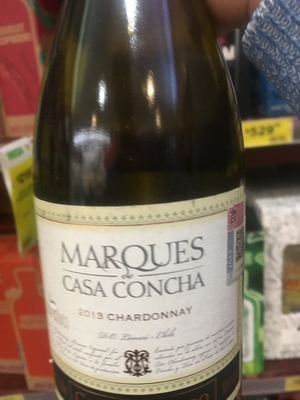marques de casa concha chardonnay: (32, 20, 257, 400)
